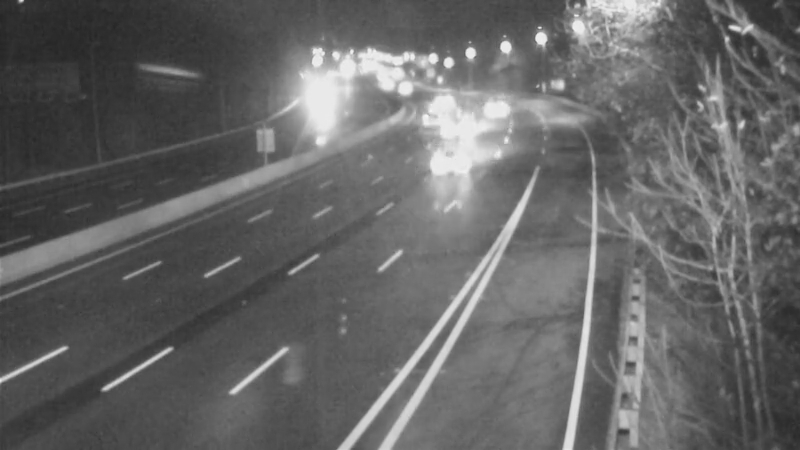vehicle: (420, 121, 500, 201), (378, 64, 428, 114), (418, 75, 468, 125), (471, 83, 521, 133), (402, 93, 452, 143), (429, 103, 479, 153), (293, 74, 343, 124)
